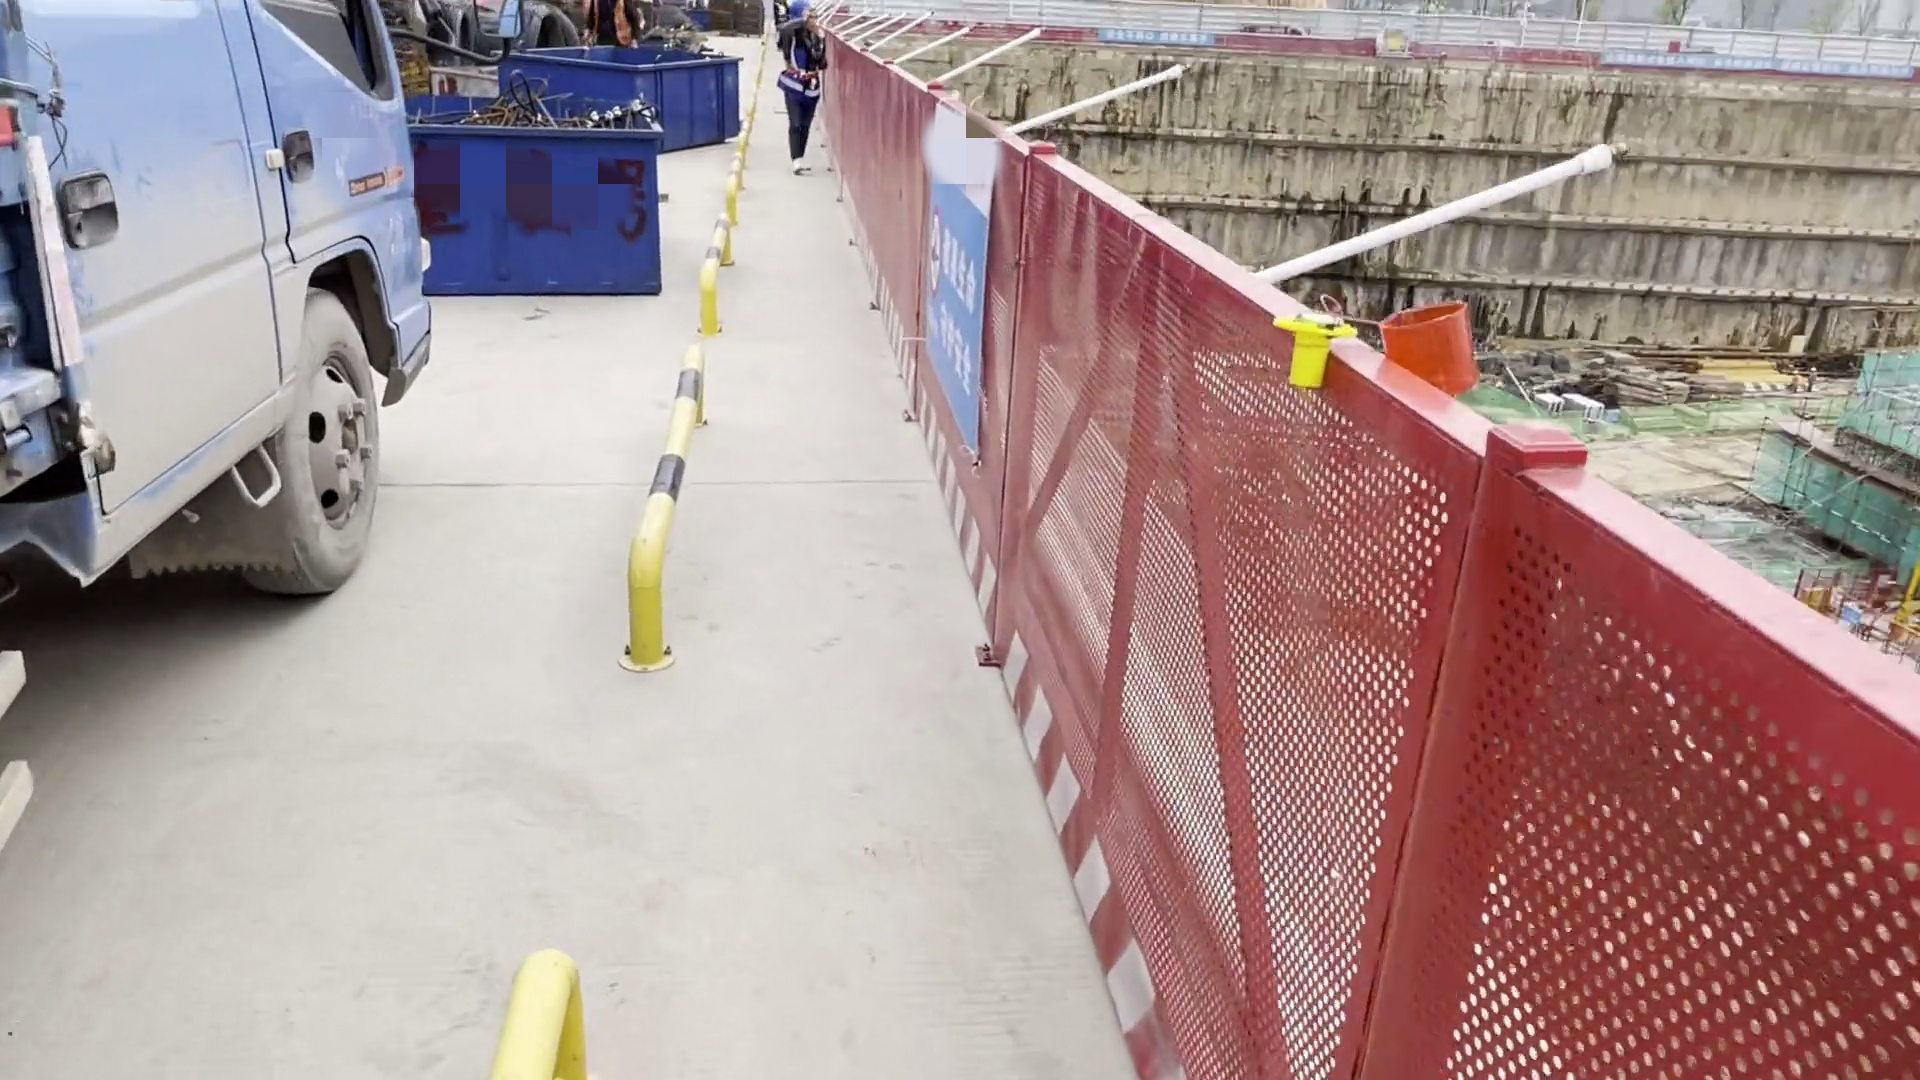fence: (867, 87, 1918, 1080), (1243, 31, 1742, 71)
helmet: (788, 3, 814, 16)
hopper: (383, 105, 686, 297), (495, 49, 741, 146)
person: (770, 3, 833, 179), (583, 1, 641, 49)
slogan: (907, 110, 1013, 452), (1107, 28, 1220, 52)
vest: (784, 28, 826, 103), (591, 4, 636, 44)
